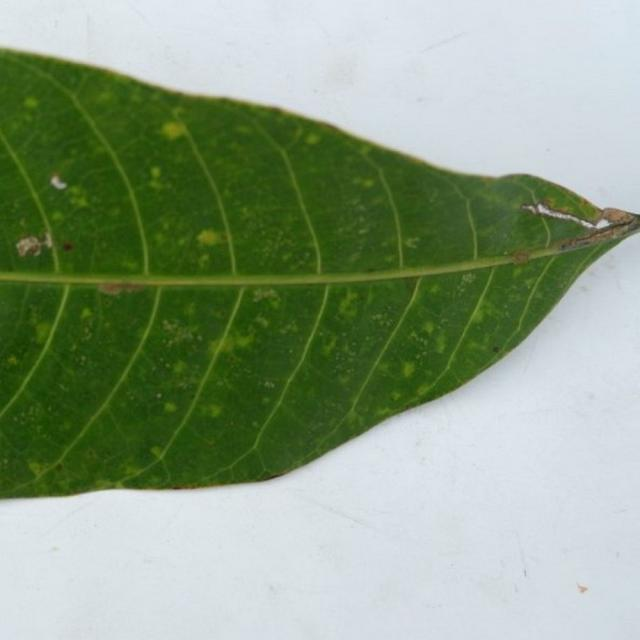Mango: (0, 51, 639, 497)
Powdery_Mildew: (225, 199, 322, 275), (520, 199, 599, 228), (214, 325, 261, 357), (161, 318, 204, 350), (190, 223, 231, 255), (15, 231, 53, 258), (471, 297, 503, 324), (598, 208, 637, 229), (98, 282, 145, 296), (67, 186, 91, 209), (146, 167, 167, 192), (338, 289, 360, 311), (160, 121, 186, 139), (27, 460, 52, 478), (251, 288, 279, 303), (34, 322, 53, 344), (509, 249, 532, 265), (321, 335, 338, 355), (202, 404, 223, 419), (162, 319, 181, 334), (50, 174, 67, 190), (434, 334, 447, 354), (520, 202, 540, 215), (371, 311, 389, 325), (172, 360, 188, 375), (402, 361, 416, 378), (42, 231, 54, 250), (472, 309, 487, 324), (416, 383, 432, 397), (23, 96, 39, 109), (254, 315, 270, 328), (79, 306, 93, 320), (421, 321, 435, 335), (461, 272, 476, 285), (405, 237, 421, 249), (403, 276, 419, 288), (150, 445, 164, 458), (197, 254, 210, 268), (305, 133, 320, 145), (346, 413, 359, 426), (337, 373, 351, 385), (556, 205, 572, 215), (149, 166, 161, 179), (542, 196, 555, 208), (50, 211, 64, 222), (6, 355, 18, 367), (268, 105, 284, 114), (164, 402, 177, 413), (239, 206, 252, 217), (428, 284, 440, 295), (361, 178, 374, 188), (390, 391, 402, 401), (524, 278, 535, 288), (62, 242, 73, 252), (263, 380, 275, 389), (580, 197, 590, 207), (261, 397, 272, 406), (366, 267, 378, 273), (492, 346, 500, 353), (56, 463, 63, 471), (156, 392, 162, 398), (503, 251, 509, 256)
